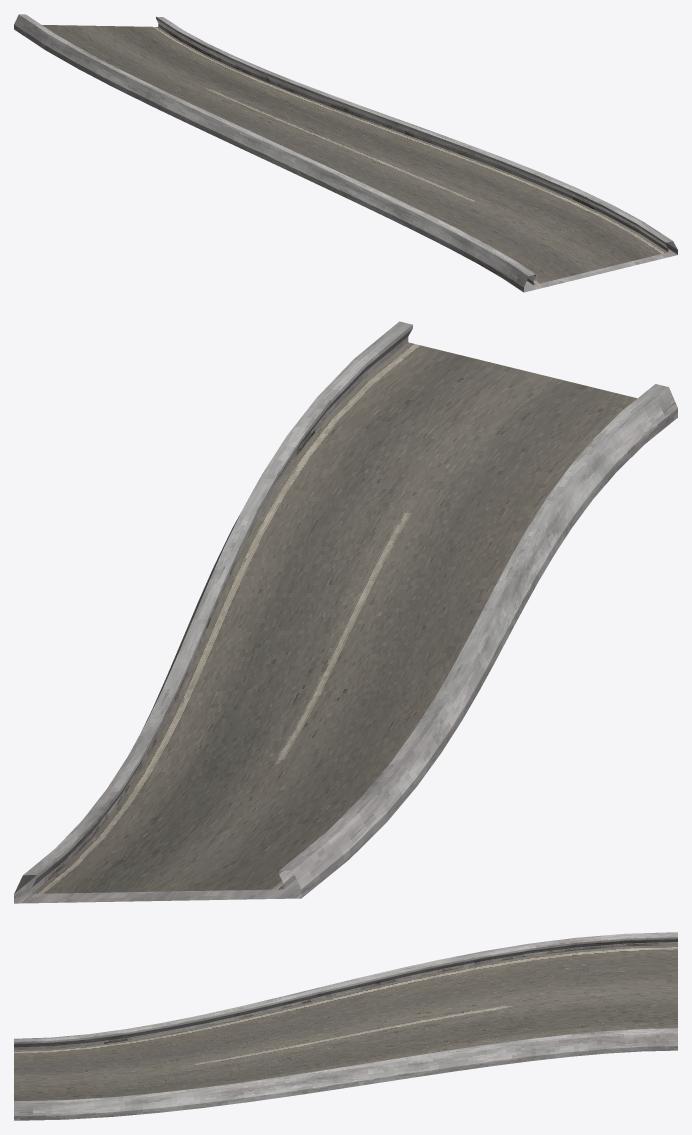
The model's file is chicane-left1x4.glb.
3 renders of one model, top to bottom at view 1: azimuth 30°, elevation 25°; view 2: azimuth 150°, elevation 25°; view 3: azimuth 270°, elevation 25°, orthographic. The views are drawn at different scales.
Parts seen in each view (by area): view 1: road-Chicane-Flat-HalfBankedRight-Even-Left1-Size4; view 2: road-Chicane-Flat-HalfBankedRight-Even-Left1-Size4; view 3: road-Chicane-Flat-HalfBankedRight-Even-Left1-Size4.
Boxes of the visible parts, left/top/right/bottom form: road-Chicane-Flat-HalfBankedRight-Even-Left1-Size4: left=14, top=14, right=677, bottom=292; road-Chicane-Flat-HalfBankedRight-Even-Left1-Size4: left=14, top=321, right=677, bottom=903; road-Chicane-Flat-HalfBankedRight-Even-Left1-Size4: left=14, top=932, right=677, bottom=1120.
Size of the model in its own units: 2 by 0.3359 by 4.
2 materials, 2 textured.
